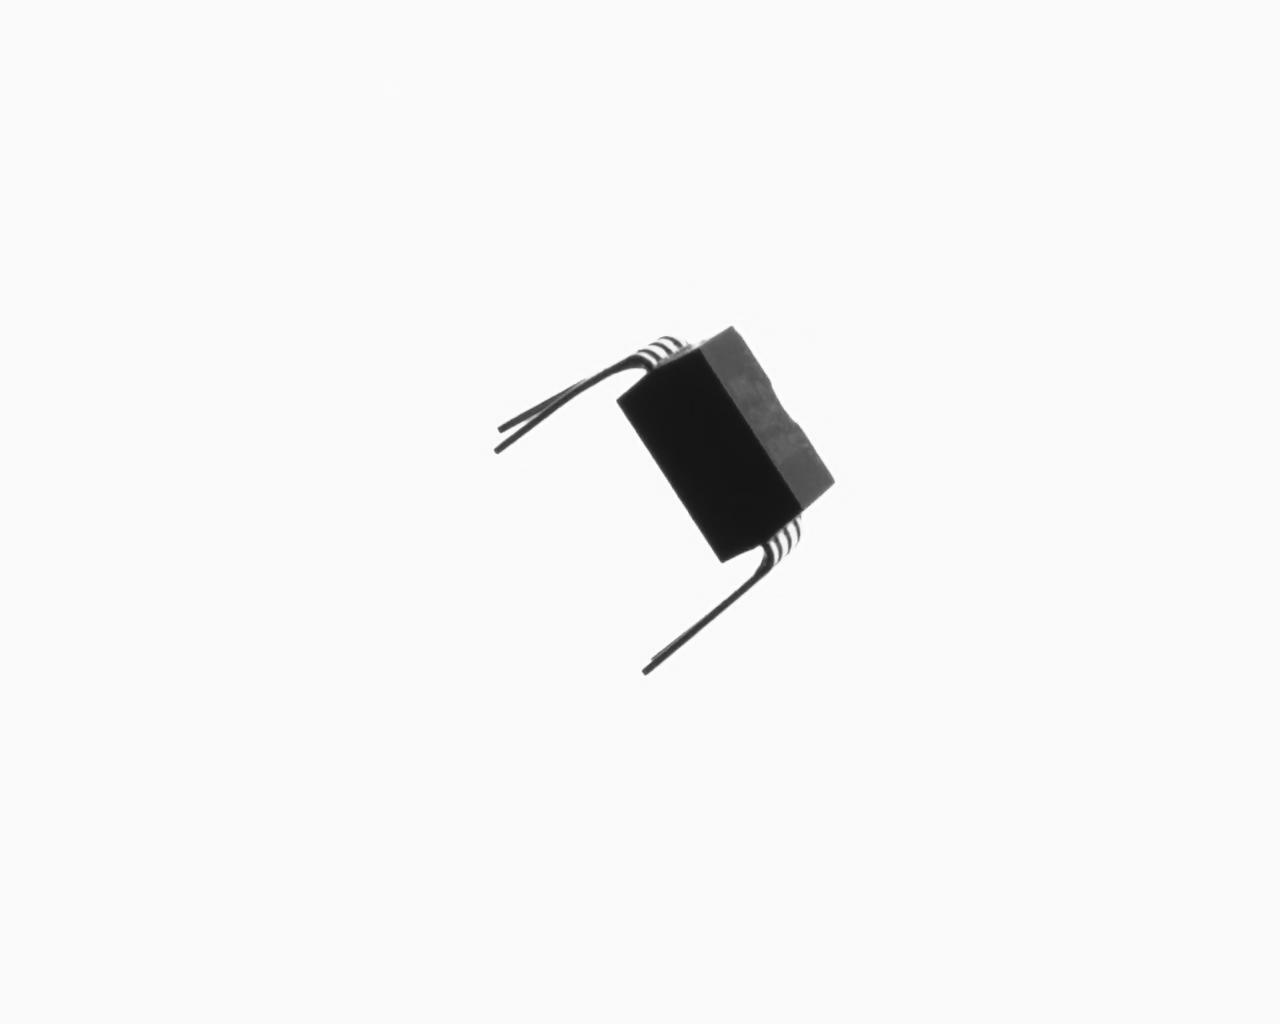Leg: (633, 533, 791, 676), (489, 342, 653, 459)
